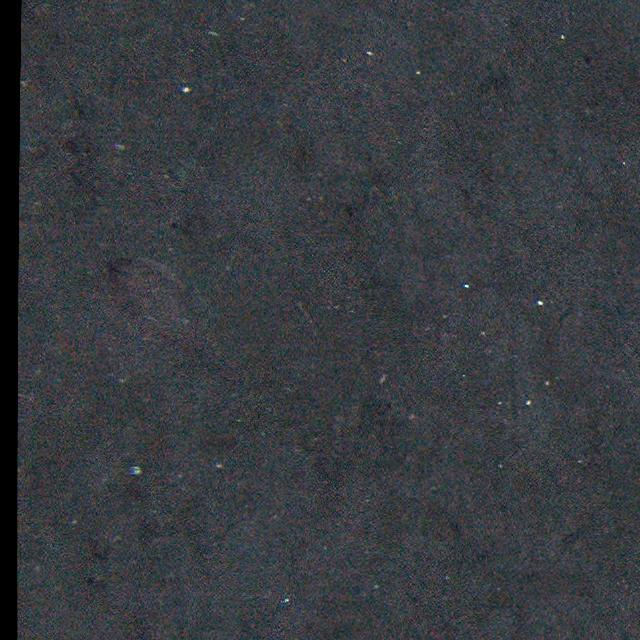flatfish: (101, 247, 227, 374)
